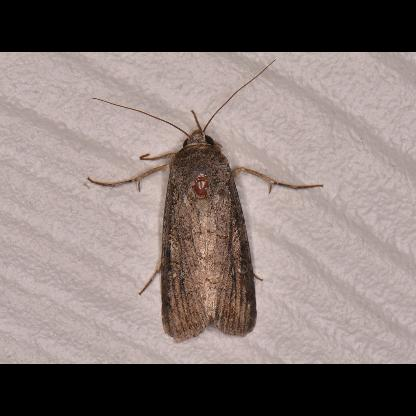Fall Armyworm Moth: (86, 58, 326, 344)
